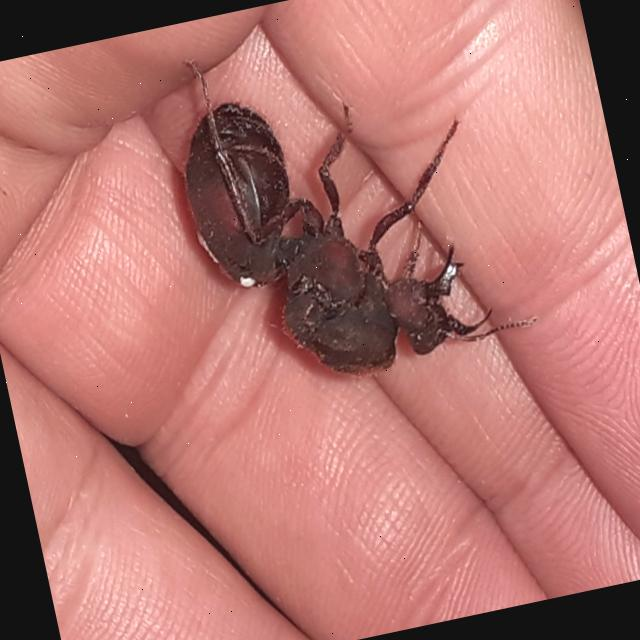Dead-Female-Dealate: (158, 0, 541, 404)
